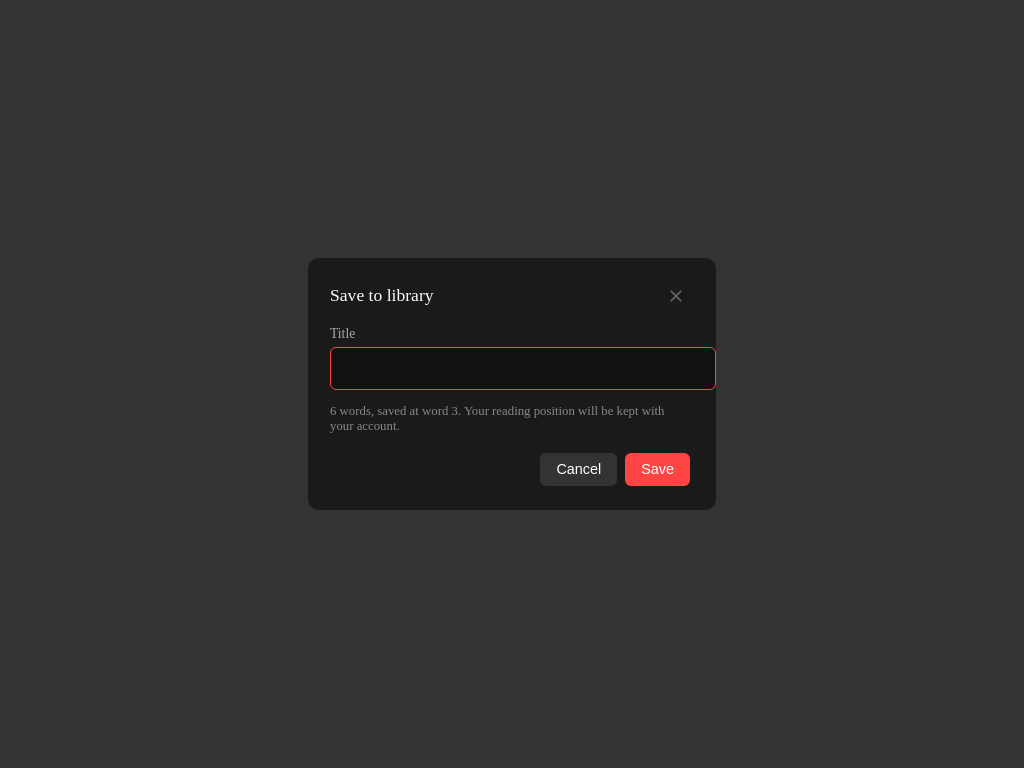
Test: SaveToLibraryModal › requires a title
Click the button "Save" at point(658, 469), box 625,453 -> 690,486
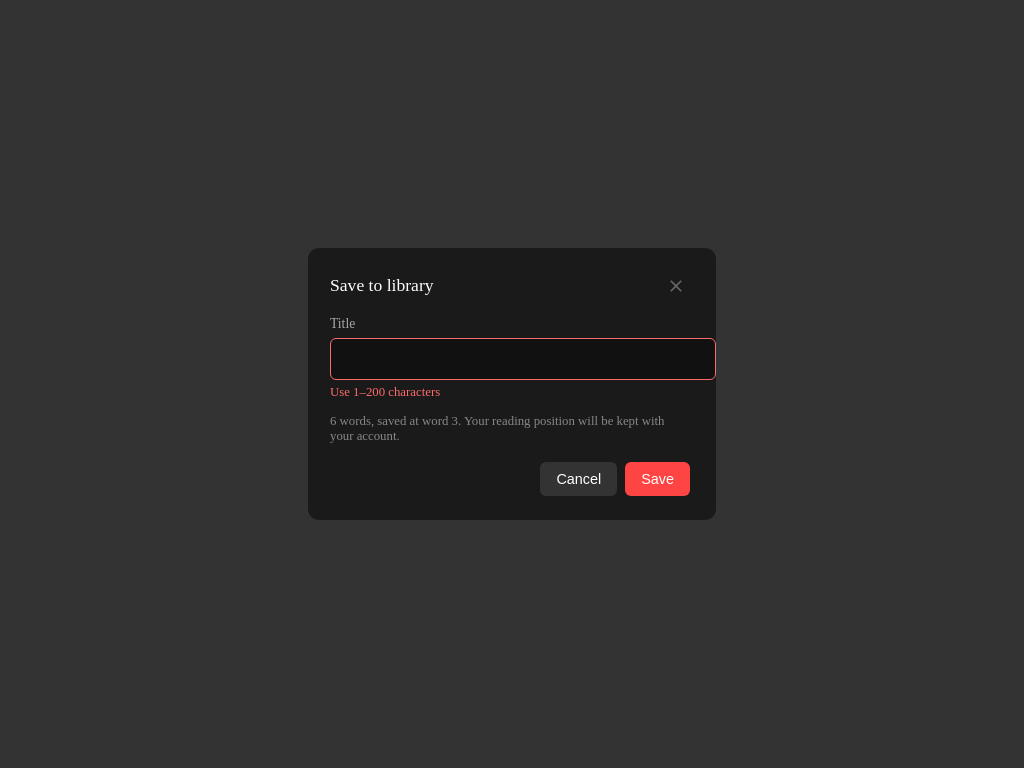
Expected: the text "Use 1–200 characters" is shown, 330,385 -> 440,399
